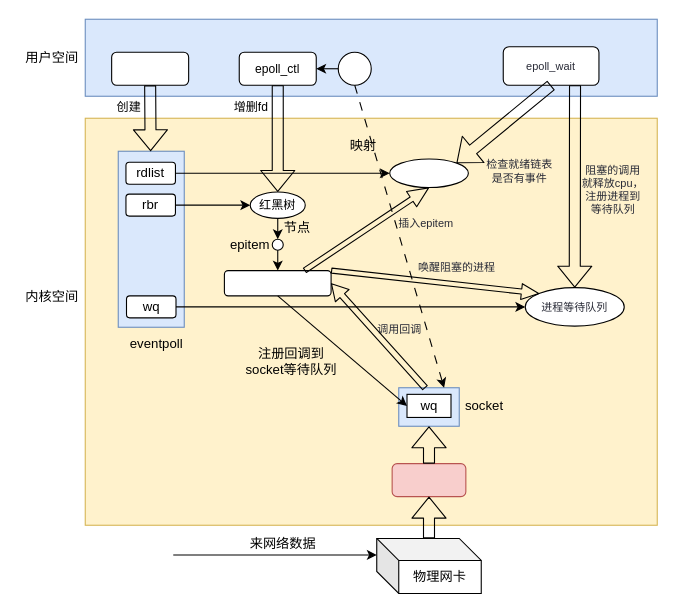
The diagram is 677 pixels wide and 613 high, and some of its shapes have lost their labels. Here are the shapes that lost their labels. From the top down, the centre of each, then its label:
At [150,68]: "epoll_create".
At [354,68]: "fd".
At [428,173]: "就绪链表".
At [277,283]: "ep_poll_callback".
At [428,480]: "软中断".
